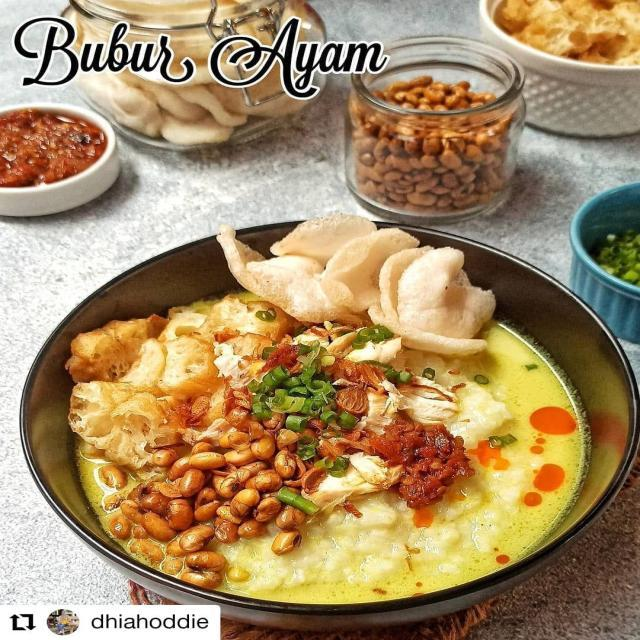bubur ayam: (71, 205, 584, 608)
mangkuk: (19, 216, 639, 631), (480, 0, 640, 139), (0, 102, 121, 218), (568, 182, 640, 344)
sambal: (0, 110, 107, 187)
